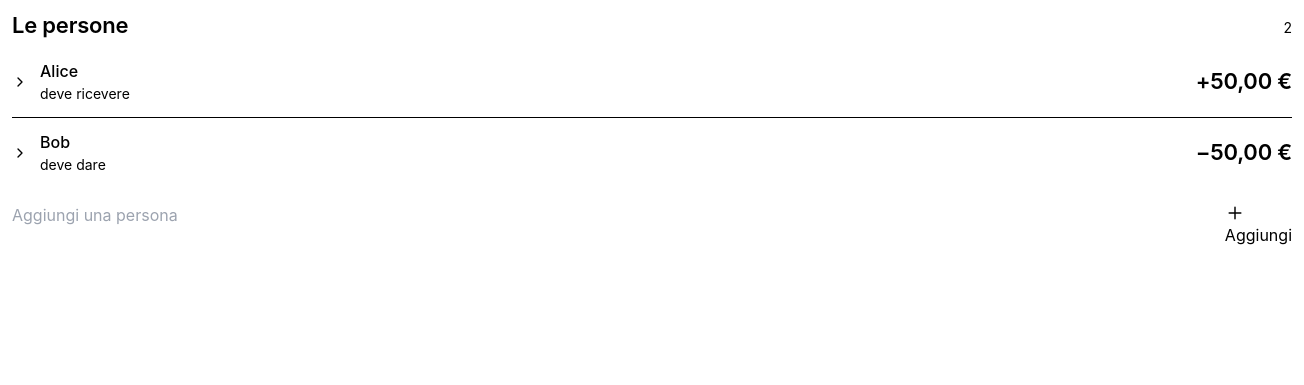
it: ParticipantPanel › hides remove behind an open balance
What coordinates should you click on to do the following:
click the button "Alice deve ricevere +50,00 €"
I would click on:
 (59, 71)
Its box is [12,47,1292,117].
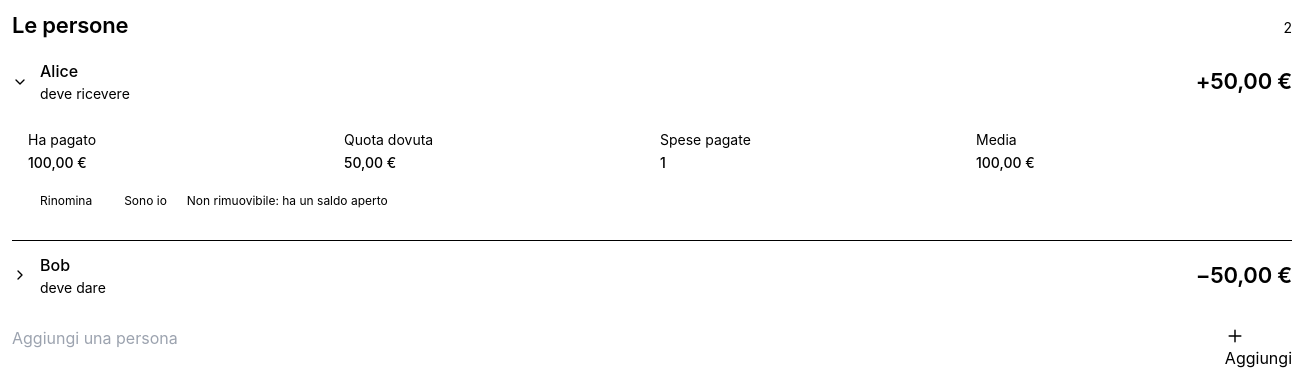
expect the text "Non rimuovibile" is shown: met, box [187,193,388,208]
